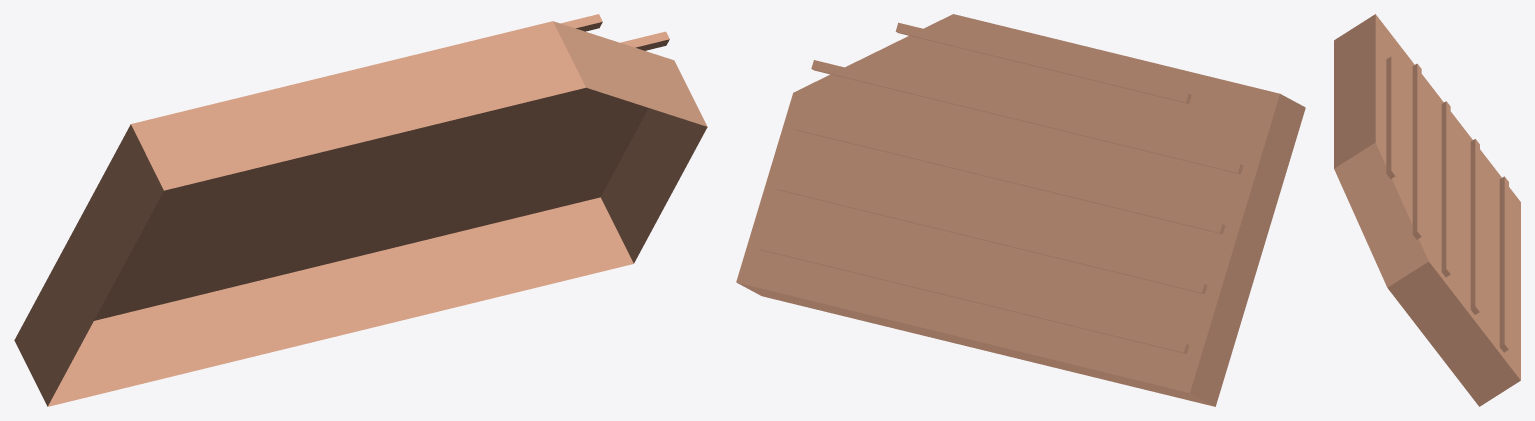
The model's file is RuinedRoof.fbx.
3 renders of one model, left to right at view 1: azimuth 30°, elevation 25°; view 2: azimuth 150°, elevation 25°; view 3: azimuth 270°, elevation 25°, orthographic. The views are drawn at different scales.
Visible parts, largest first — view 1: FR_FIX_RuinedRoof; view 2: FR_FIX_RuinedRoof; view 3: FR_FIX_RuinedRoof.
Part boxes in pixels (bbox=[...]): FR_FIX_RuinedRoof: bbox=[14, 14, 707, 406]; FR_FIX_RuinedRoof: bbox=[736, 14, 1305, 406]; FR_FIX_RuinedRoof: bbox=[1334, 14, 1520, 406].
Size of the model in its own units: 250 by 140 by 111.
